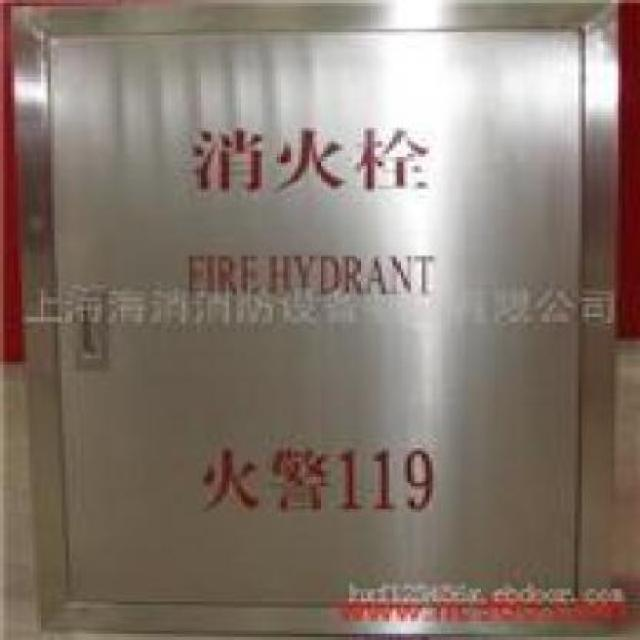firehydrant: (4, 0, 624, 640)
